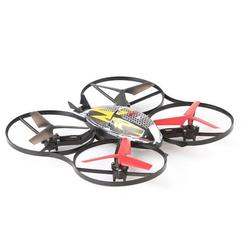drone: (5, 75, 237, 188)
